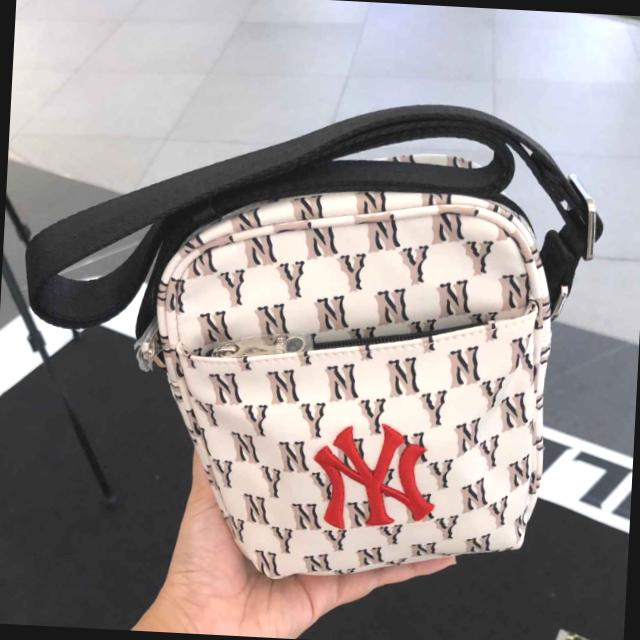handbag: (120, 104, 582, 604)
